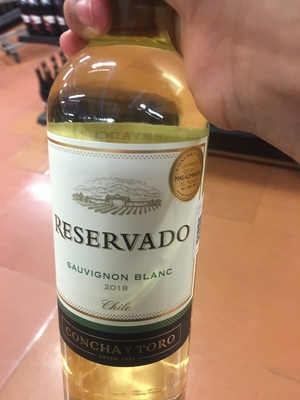reservado sauvignon blanc: (48, 1, 213, 400)
